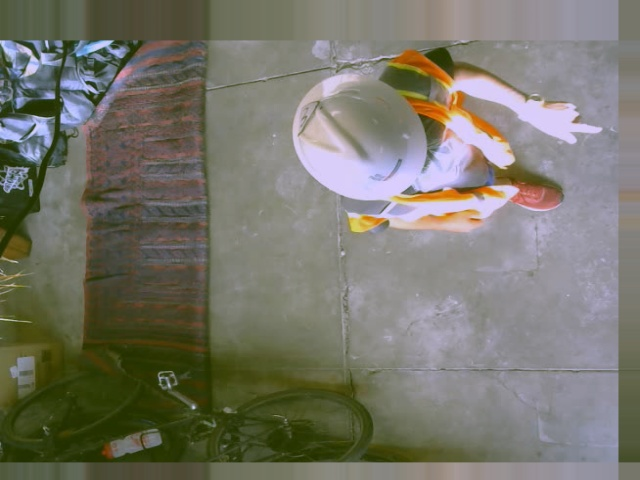three: (295, 100, 318, 136)
